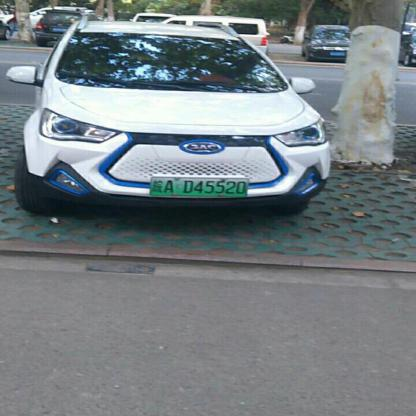lp: (150, 176, 249, 198)
